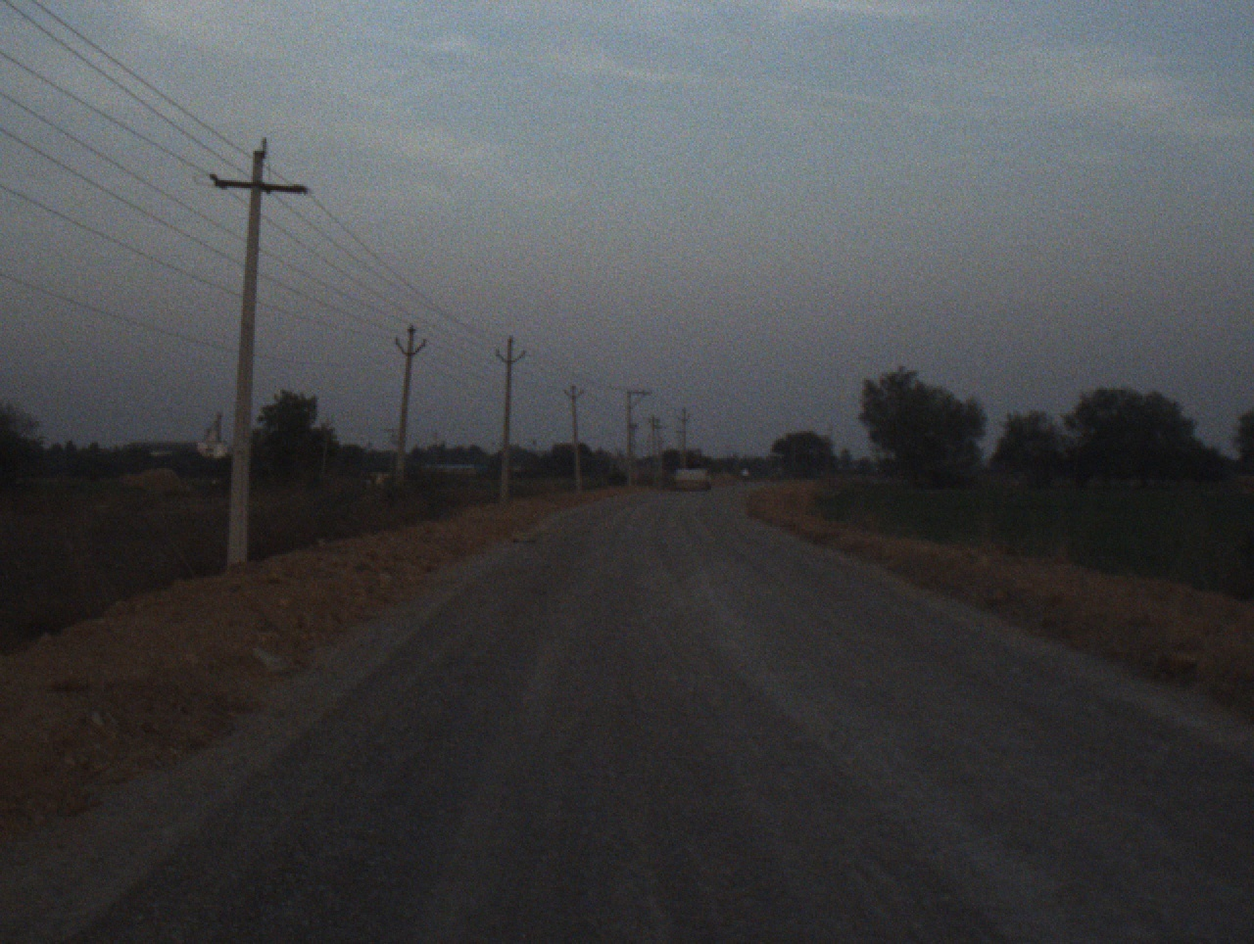vehicle fallback: (671, 450, 712, 494)
